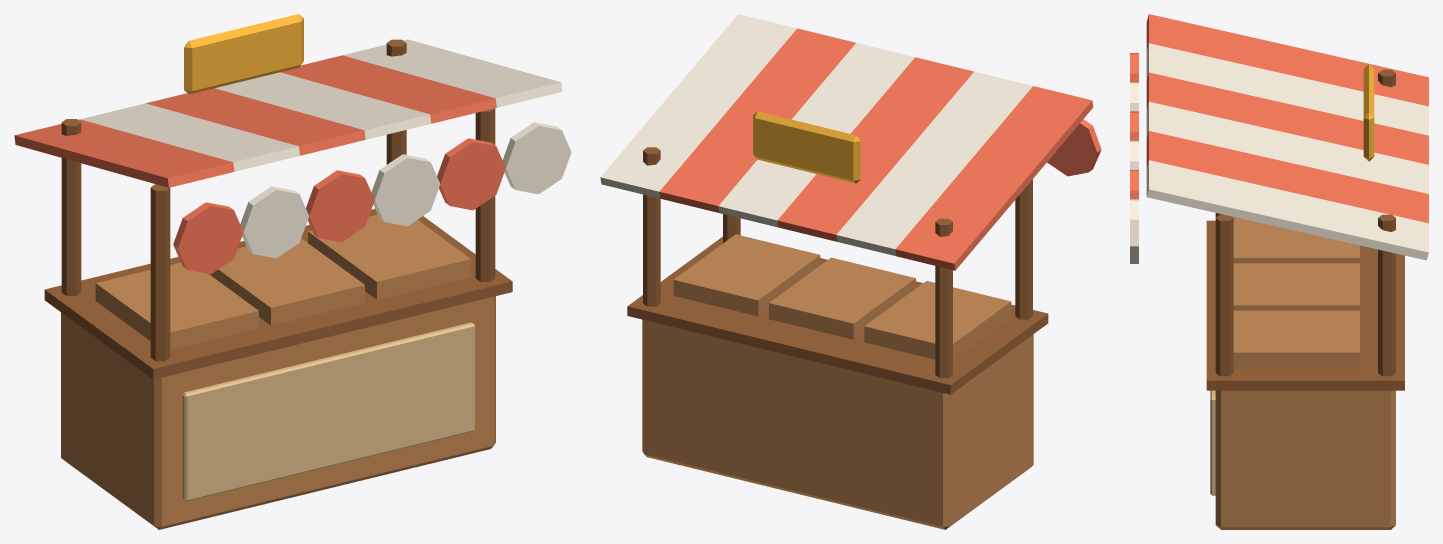
File: stall.glb
3 renders of one model, left to right at view 1: azimuth 30°, elevation 25°; view 2: azimuth 150°, elevation 25°; view 3: azimuth 270°, elevation 25°, orthographic. The views are drawn at different scales.
Visible parts, largest first — view 1: stall; view 2: stall; view 3: stall.
Boxes of the visible parts, bbox=[...] form: stall: bbox=[14, 14, 571, 529]; stall: bbox=[600, 14, 1101, 529]; stall: bbox=[1130, 14, 1428, 529].
Bounding box in the file's own units: 2.3 × 2.25 × 1.66.
